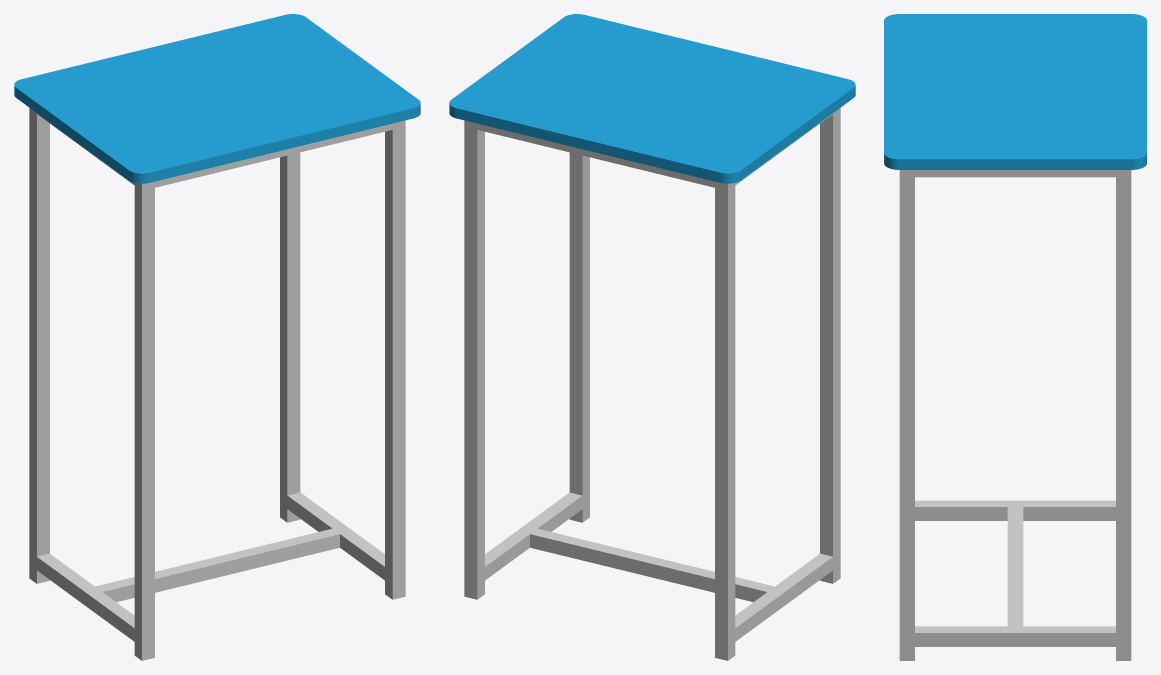
Rendered from RegularTable445x340Colored.dae.
The picture shows the model from 3 angles, left to right: view 1: azimuth 30°, elevation 25°; view 2: azimuth 150°, elevation 25°; view 3: azimuth 270°, elevation 25°; orthographic projection. The views are drawn at different scales.
Parts seen in each view (by area): view 1: node0; view 2: node0; view 3: node0.
Part boxes in pixels (x1,y1,x2,y2): node0: [14, 14, 420, 660]; node0: [449, 14, 855, 660]; node0: [884, 14, 1146, 660].
Size of the model in its own units: 445 by 340 by 725.
